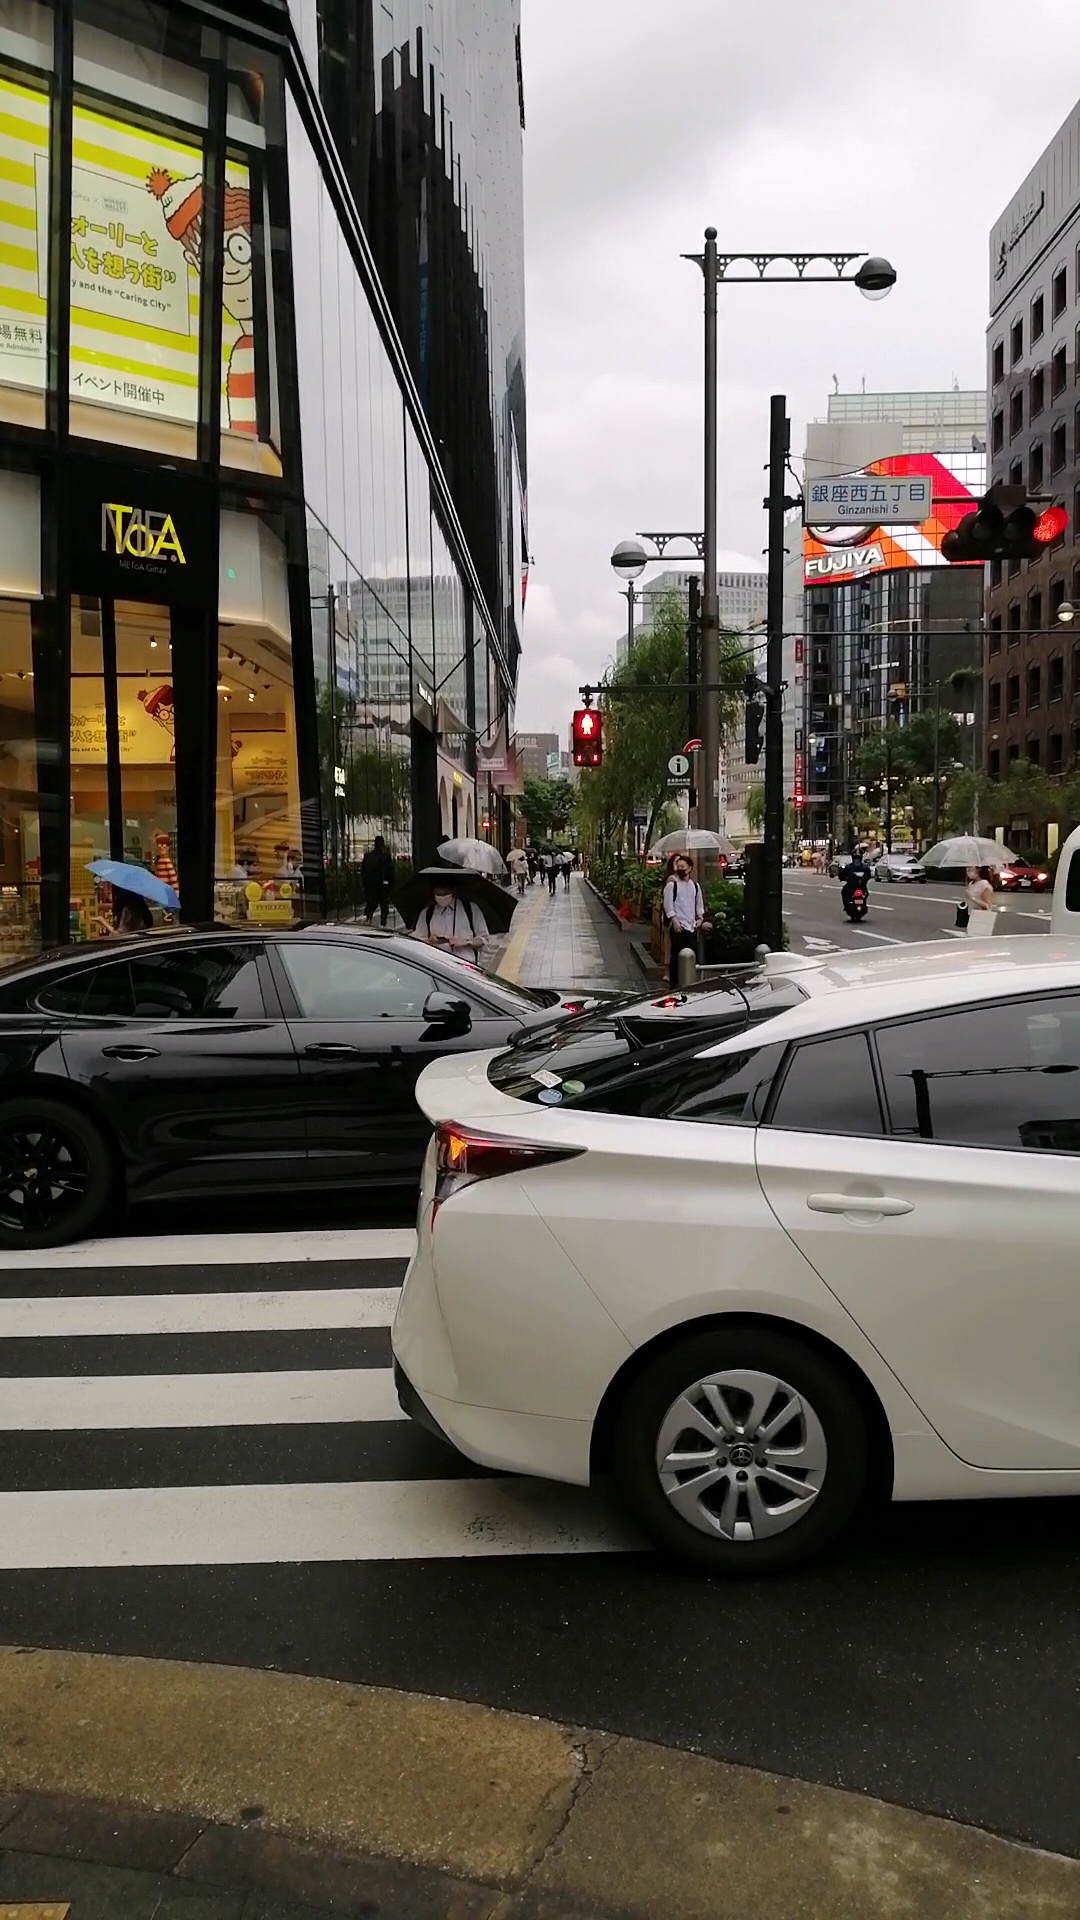red: (571, 709, 603, 771)
